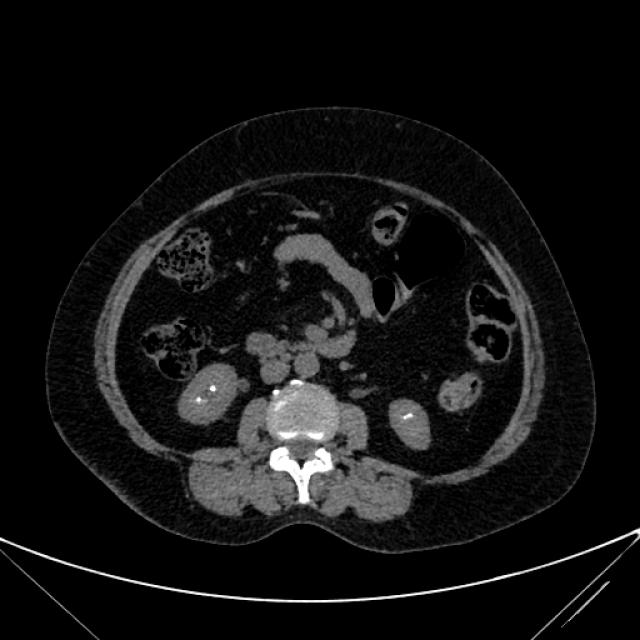kidney: (186, 367, 228, 421), (393, 403, 429, 446)
stone: (404, 414, 412, 419), (210, 385, 216, 391), (197, 397, 201, 402)
